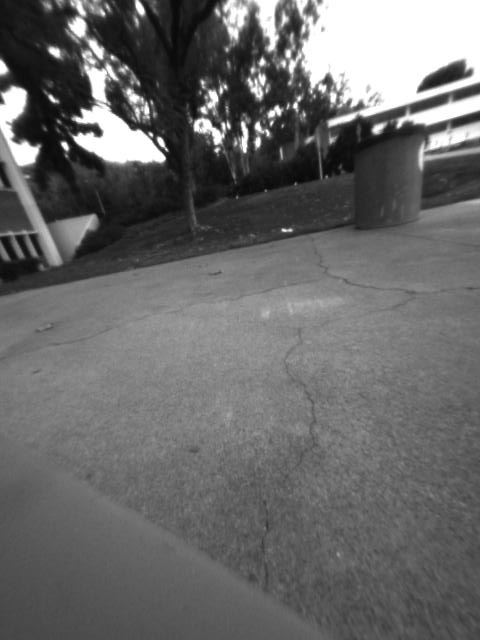trashcan: (352, 123, 427, 233)
